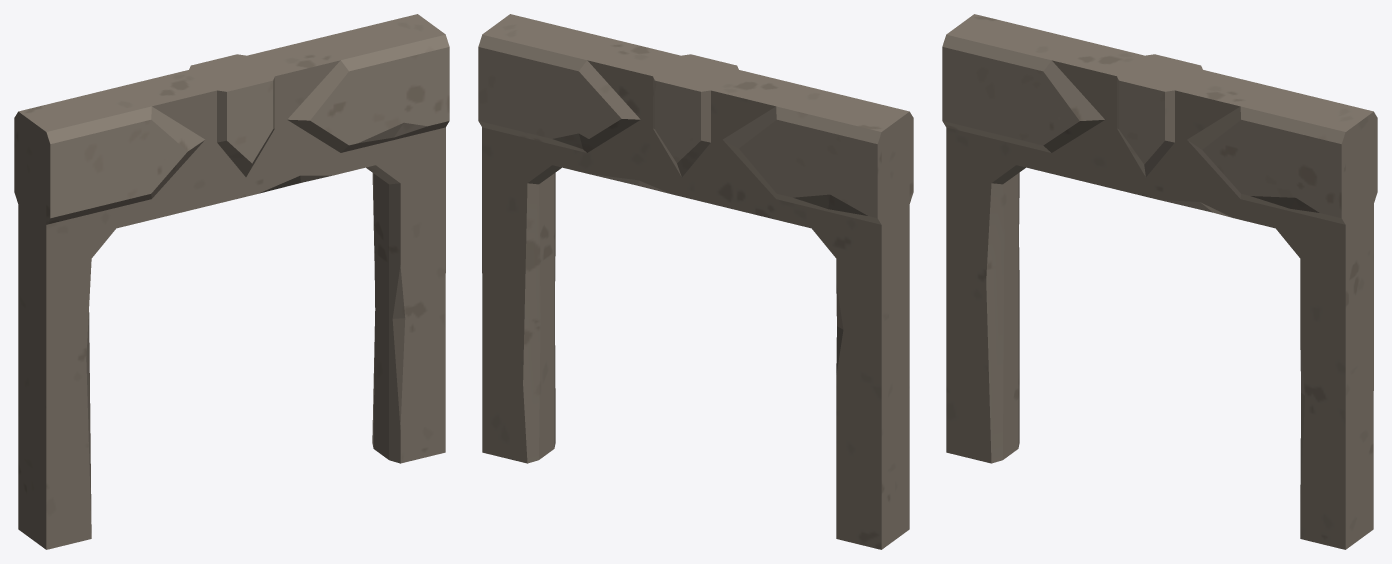
Rendered from forge_wall_arch.gltf.
The picture shows the model from 3 angles, left to right: view 1: azimuth 30°, elevation 25°; view 2: azimuth 150°, elevation 25°; view 3: azimuth 330°, elevation 25°; orthographic projection.
Visible parts, largest first — view 1: forge_wall_arch; view 2: forge_wall_arch; view 3: forge_wall_arch.
Part boxes in pixels (x1,y1,x2,y2): forge_wall_arch: [14, 14, 449, 549]; forge_wall_arch: [478, 14, 913, 549]; forge_wall_arch: [942, 14, 1377, 549].
Bounding box in the file's own units: 5 × 5 × 0.78.
1 material, 1 textured.
